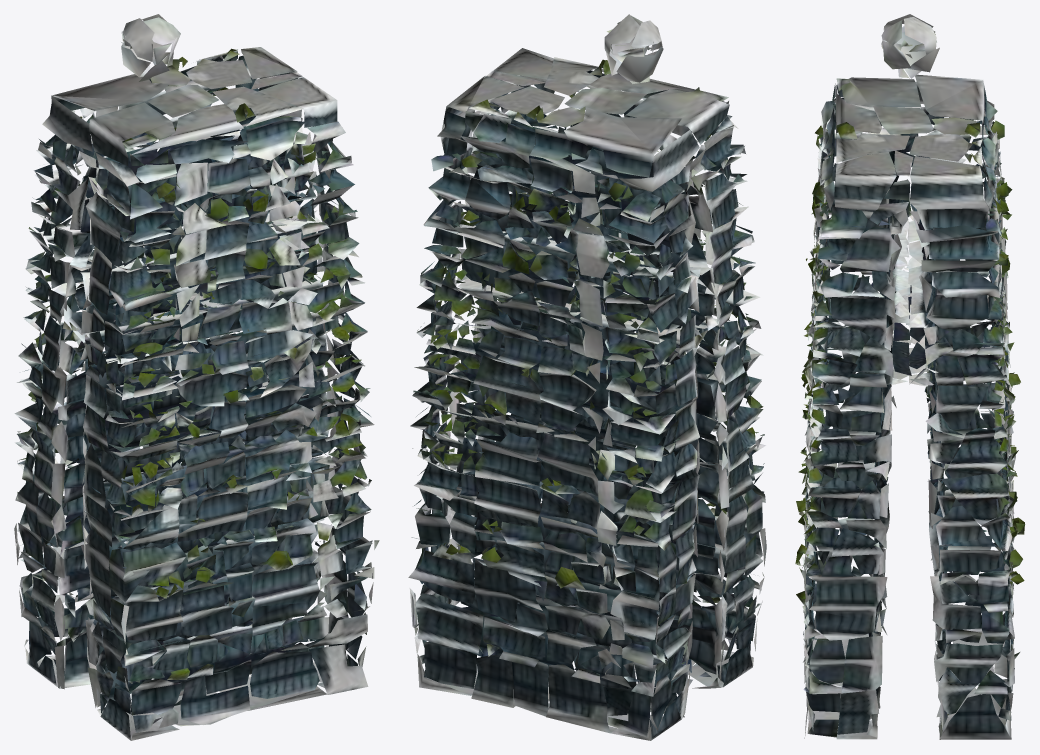
The model's file is tower_m_p.glb.
The picture shows the model from 3 angles, left to right: view 1: azimuth 30°, elevation 25°; view 2: azimuth 150°, elevation 25°; view 3: azimuth 270°, elevation 25°; orthographic projection. The views are drawn at different scales.
Visible parts, largest first — view 1: Mesh_0; view 2: Mesh_0; view 3: Mesh_0.
Part boxes in pixels (<box>): Mesh_0: <box>14,14,379,740</box>; Mesh_0: <box>408,14,766,740</box>; Mesh_0: <box>795,14,1025,739</box>.
Size of the model in its own units: 0.6931 by 1.74 by 0.558.
Materials: 1 (1 with a texture image).
